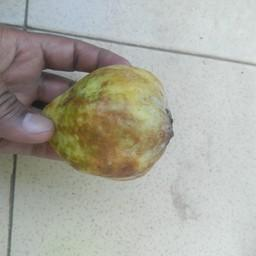Bad_guava: (34, 65, 175, 180)
